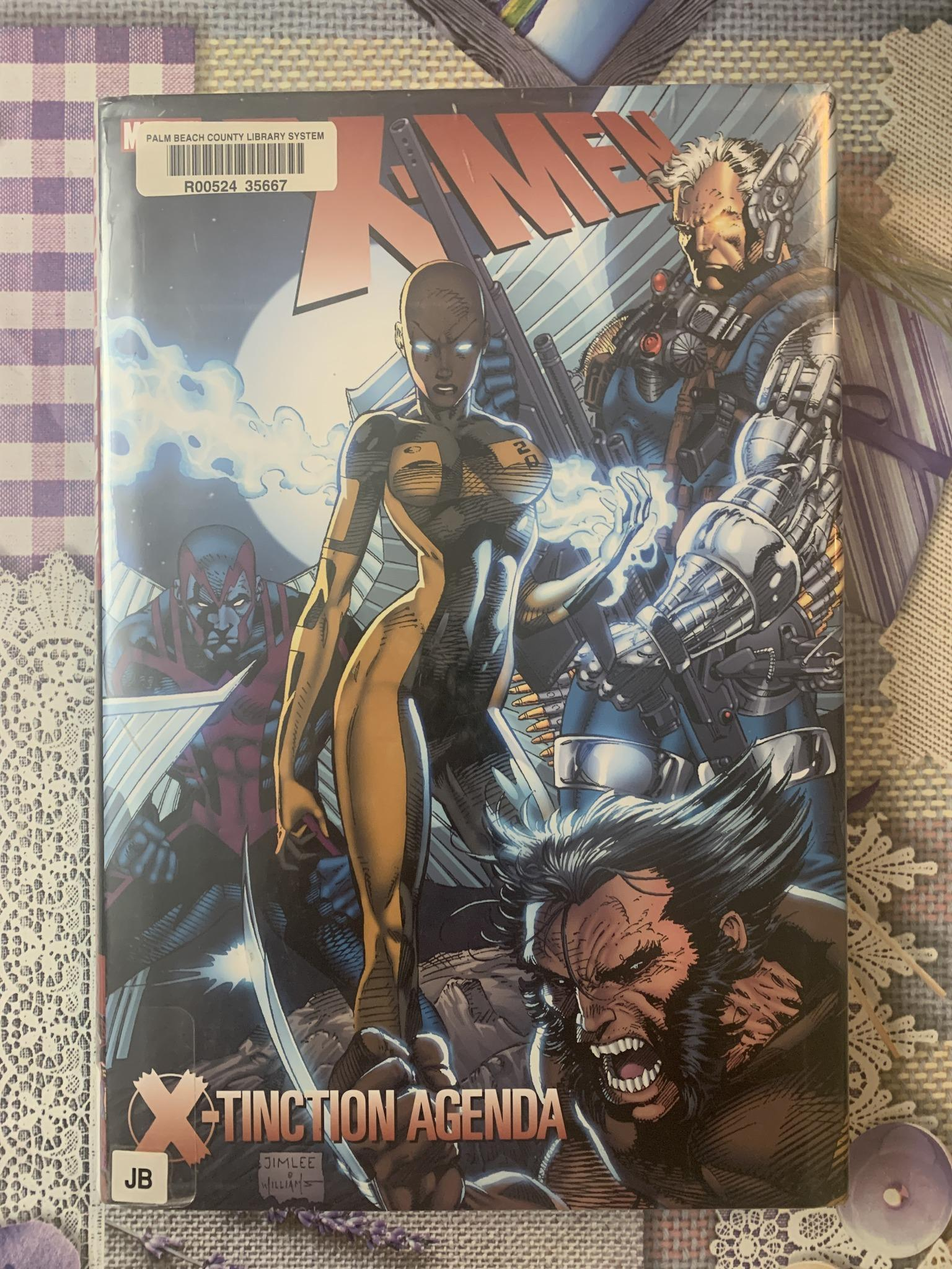comic: (94, 84, 848, 1211)
